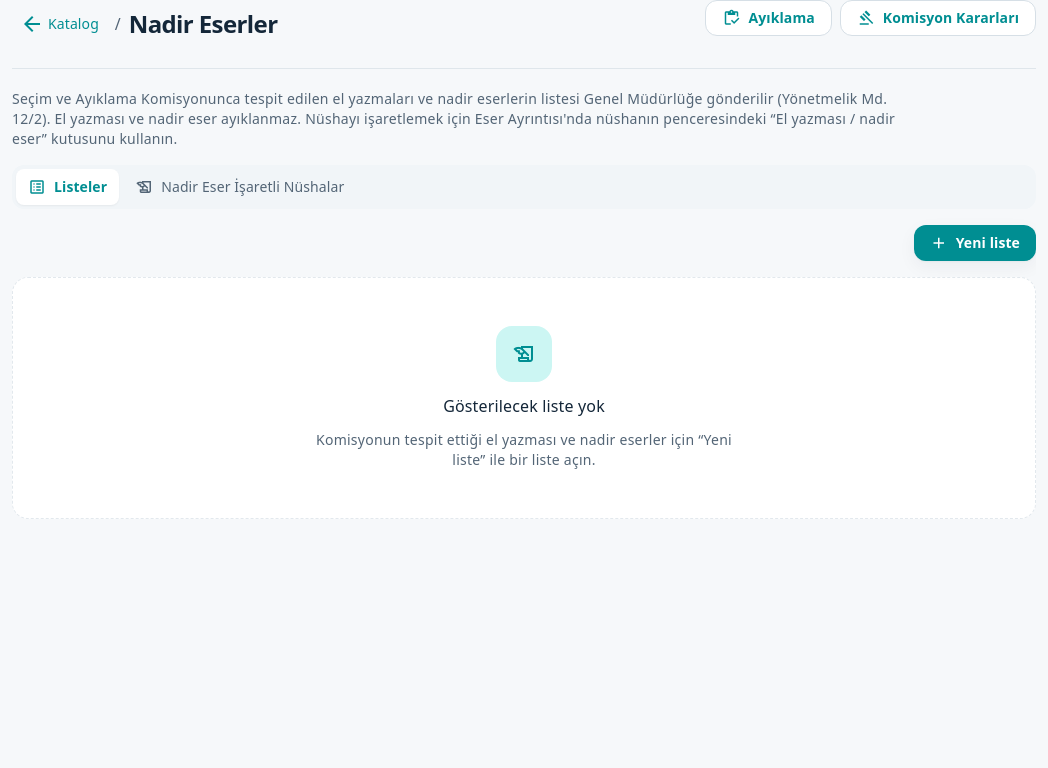
Test case: NadirEserlerPage › boş listeler
This screenshot has width=1048, height=768.
Expected: the heading "Gösterilecek liste yok" is shown, 443,394 -> 605,418
What coordinates should you click on to do the following:
click the tab "Nadir Eser İşaretli Nüshalar"
I would click on:
 (240, 187)
Its box is 123,169 -> 356,205.
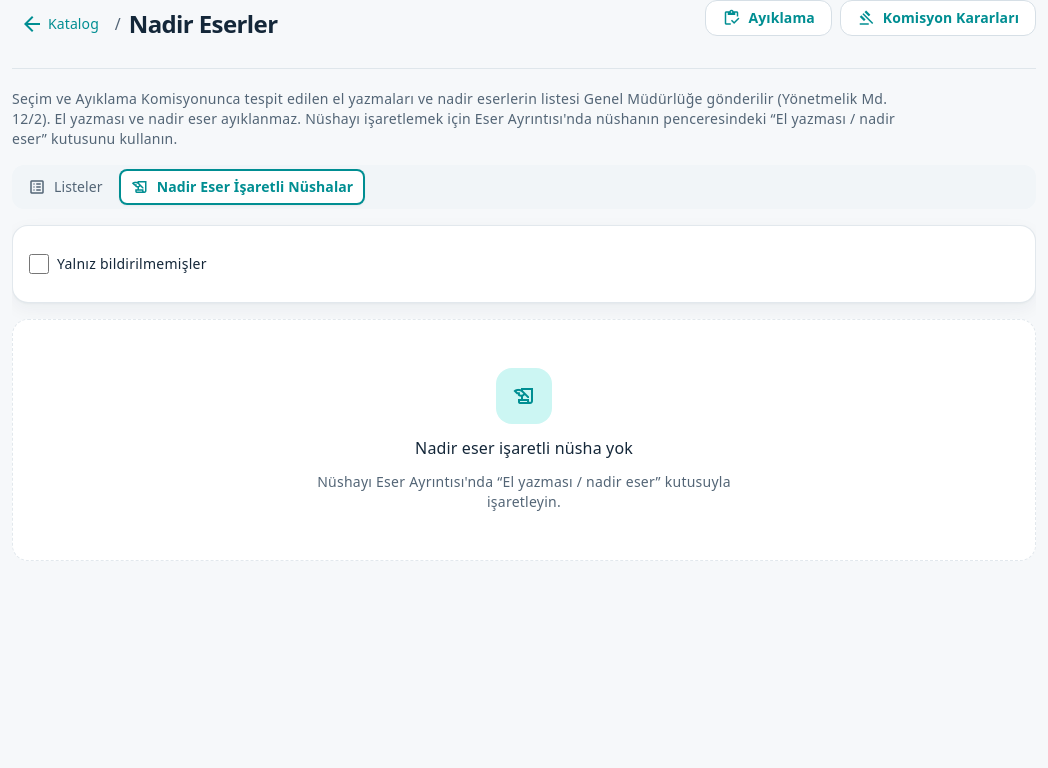
Result: the heading "Nadir eser işaretli nüsha yok" is shown at 415,436 -> 633,460
